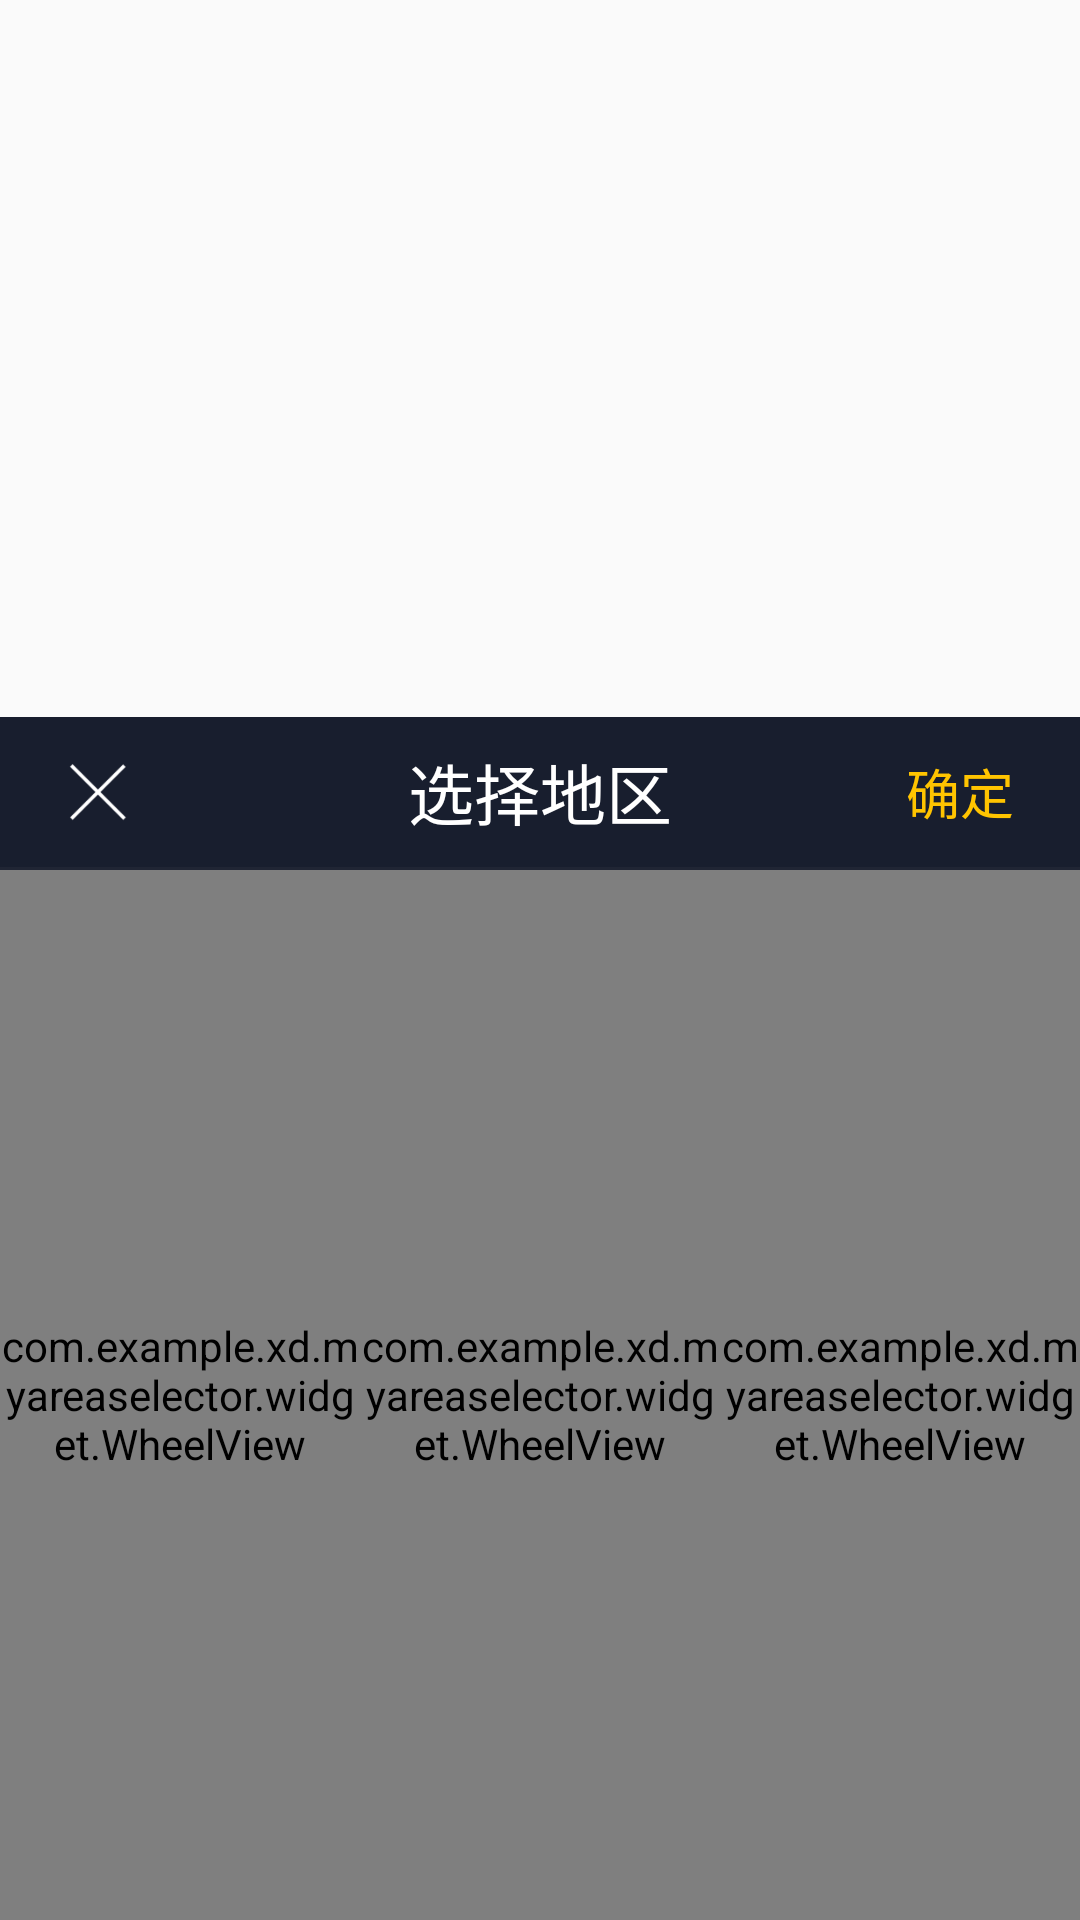

Where to tap for icons on this 1080w x 1920h app screen, as (x,y):
cancell: (98,792)
